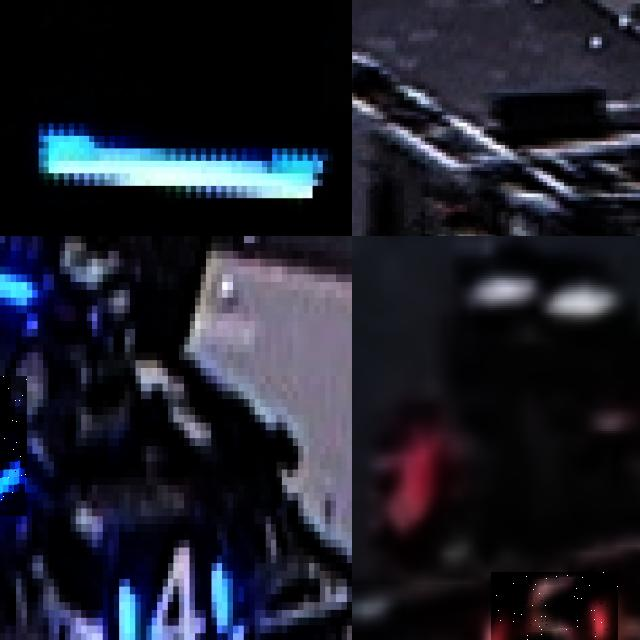B4: (83, 523, 246, 640)
R5: (491, 572, 617, 640)
